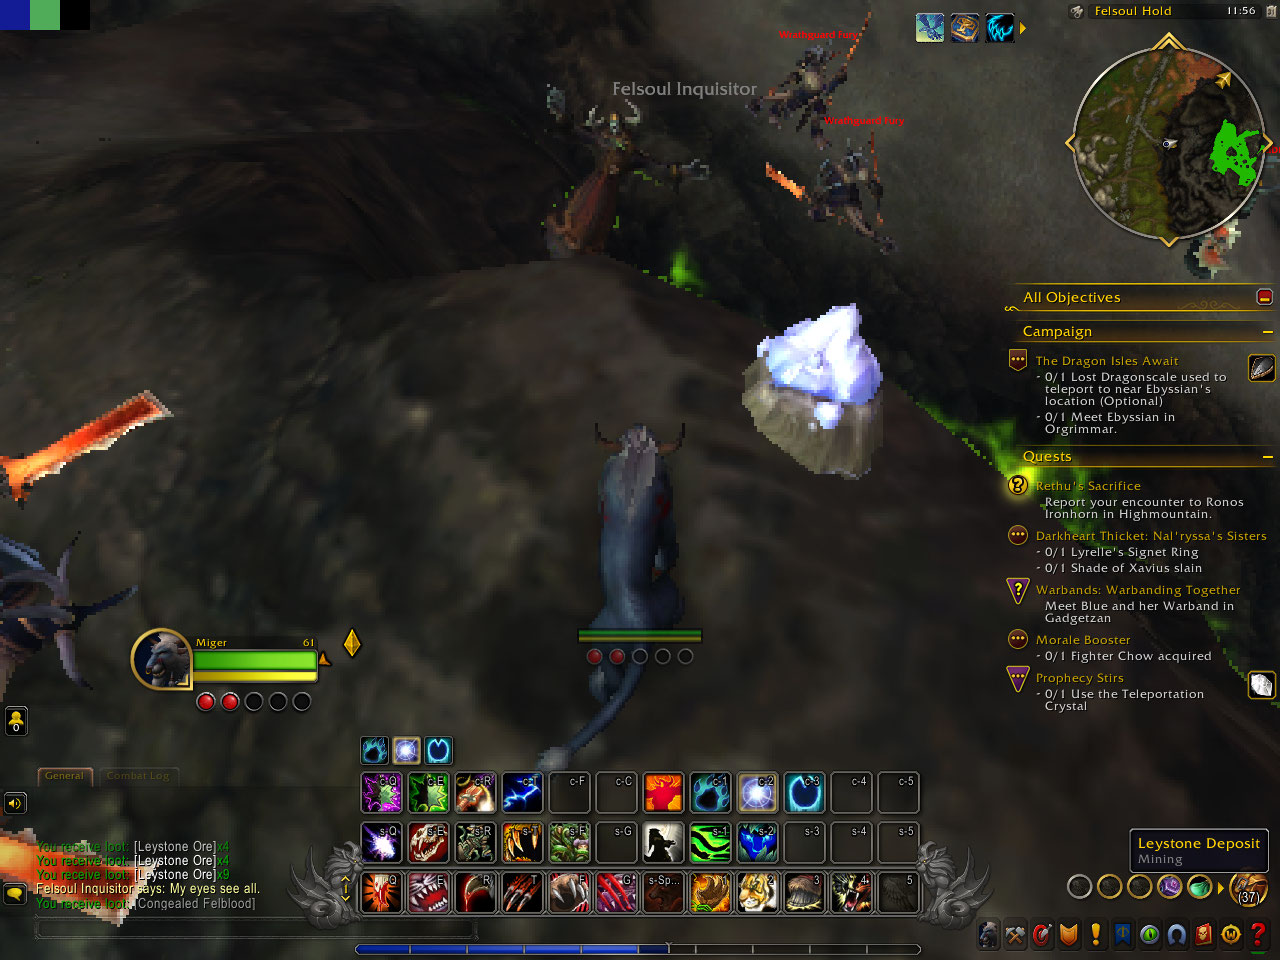ore: (740, 304, 886, 482)
